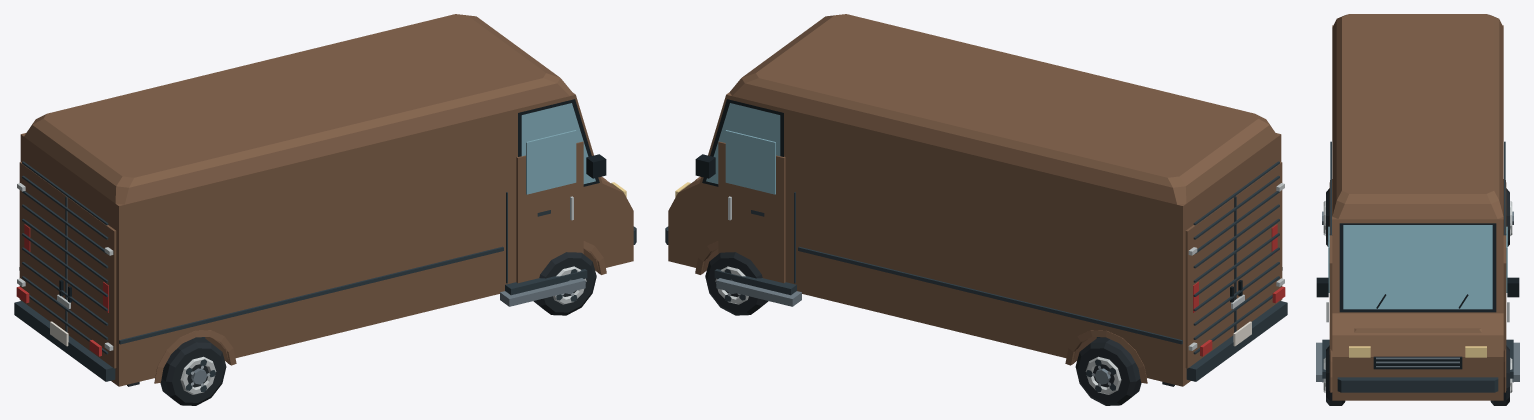
The model's file is b15_parcel_step_van.glb.
The picture shows the model from 3 angles, left to right: view 1: azimuth 30°, elevation 25°; view 2: azimuth 150°, elevation 25°; view 3: azimuth 270°, elevation 25°; orthographic projection. The views are drawn at different scales.
Visible parts, largest first — view 1: b15_parcel_step_van; view 2: b15_parcel_step_van; view 3: b15_parcel_step_van.
Part boxes in pixels (box(x1,y1,x2,y2)): b15_parcel_step_van: box(14, 14, 636, 405); b15_parcel_step_van: box(665, 14, 1287, 405); b15_parcel_step_van: box(1316, 14, 1519, 405).
Size of the model in its own units: 7.22 by 3.05 by 2.74.
